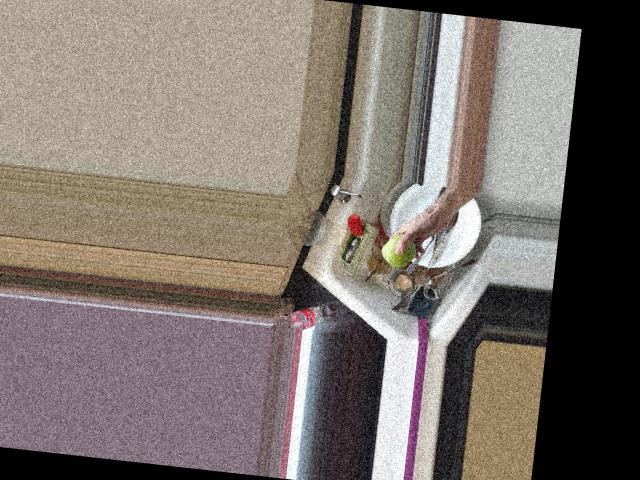apple: (379, 229, 420, 269)
